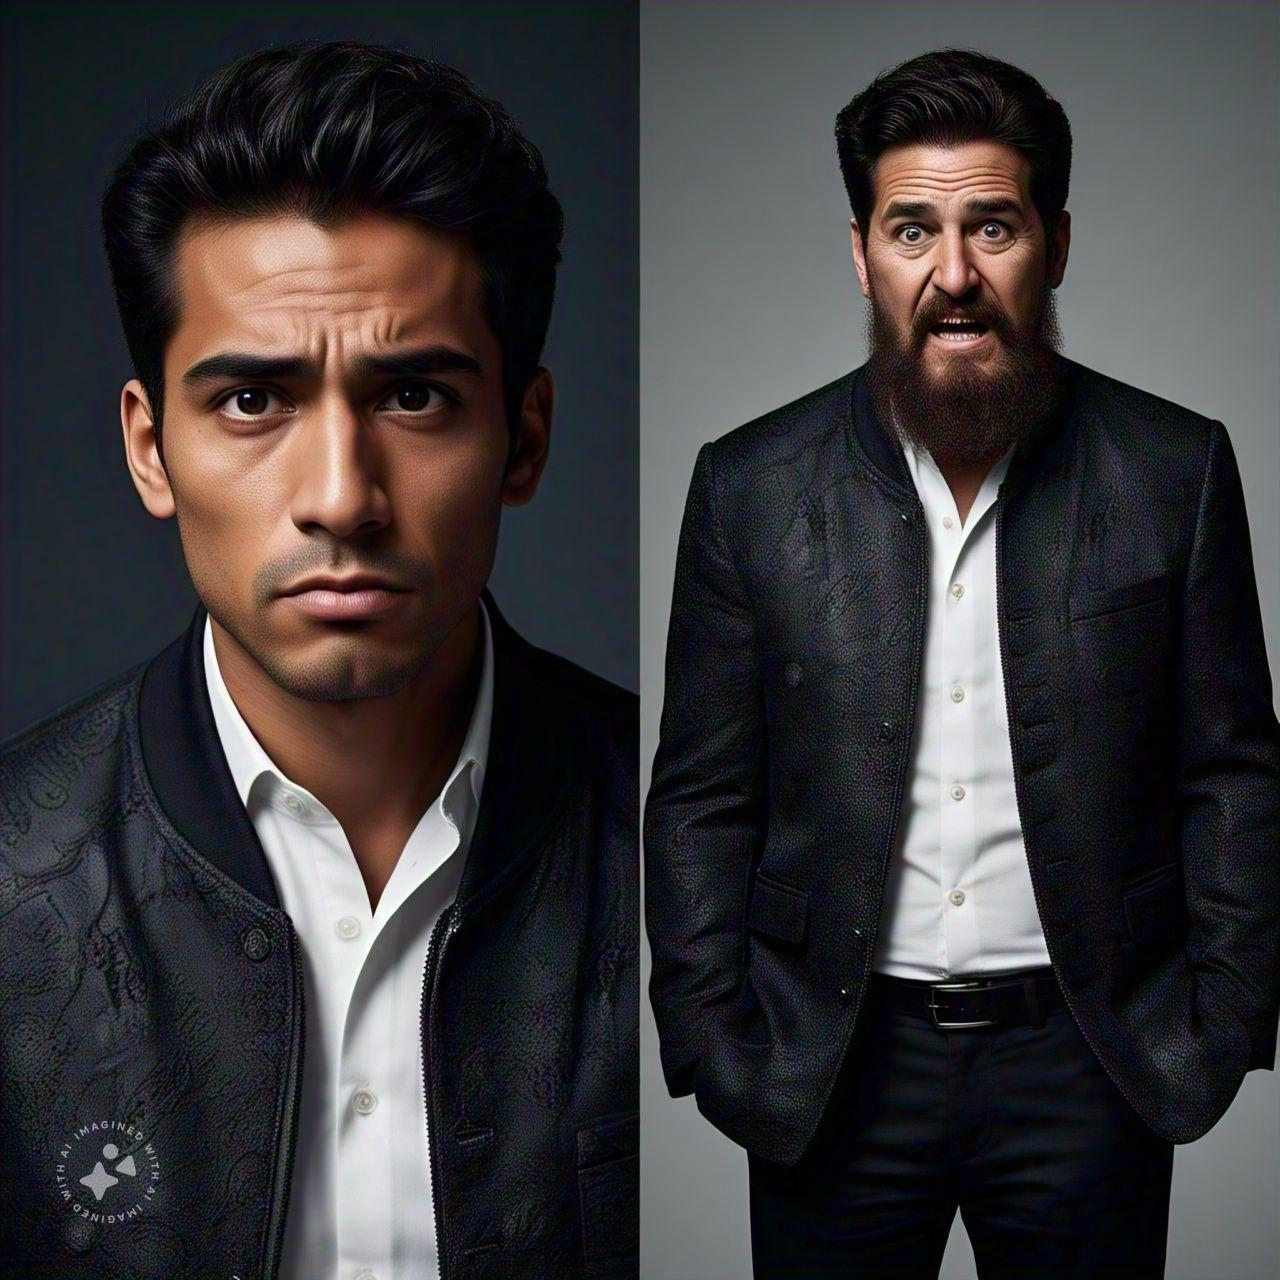normal: (136, 170, 517, 700)
surpreso: (856, 138, 1065, 442)
